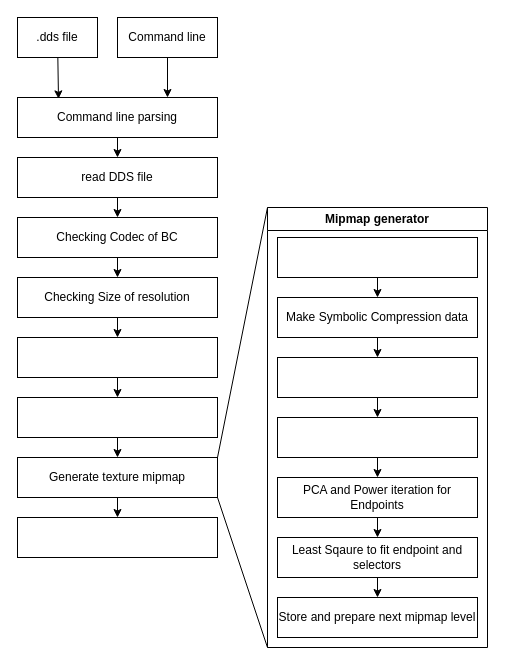
Some shapes in this 505 by 666 pixel diagram are drawn without their labels. Here are the shapes that lost their labels. From the top down, the centre of each, then its label:
point (377, 257): Load Parent Texel Block
point (117, 357): Alloc. memory of texture mipmap
point (377, 377): Change RGB to Linear domain
point (117, 417): prepare multi-thread
point (377, 437): Calc. Covariance Matrix, Average, 2st Moment
point (117, 537): Store texture mipmap
